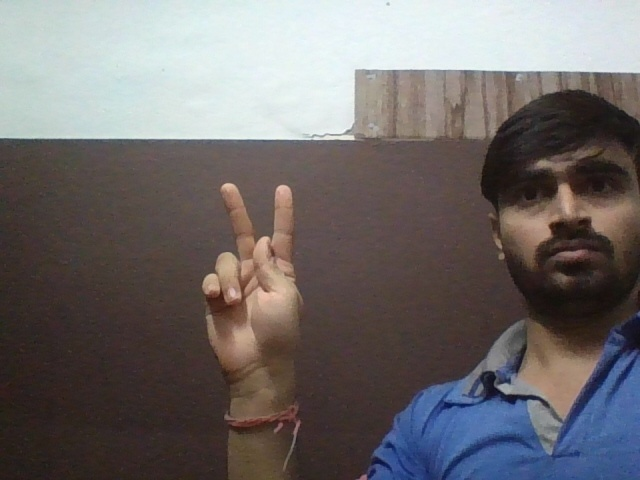K: (196, 177, 310, 387)
